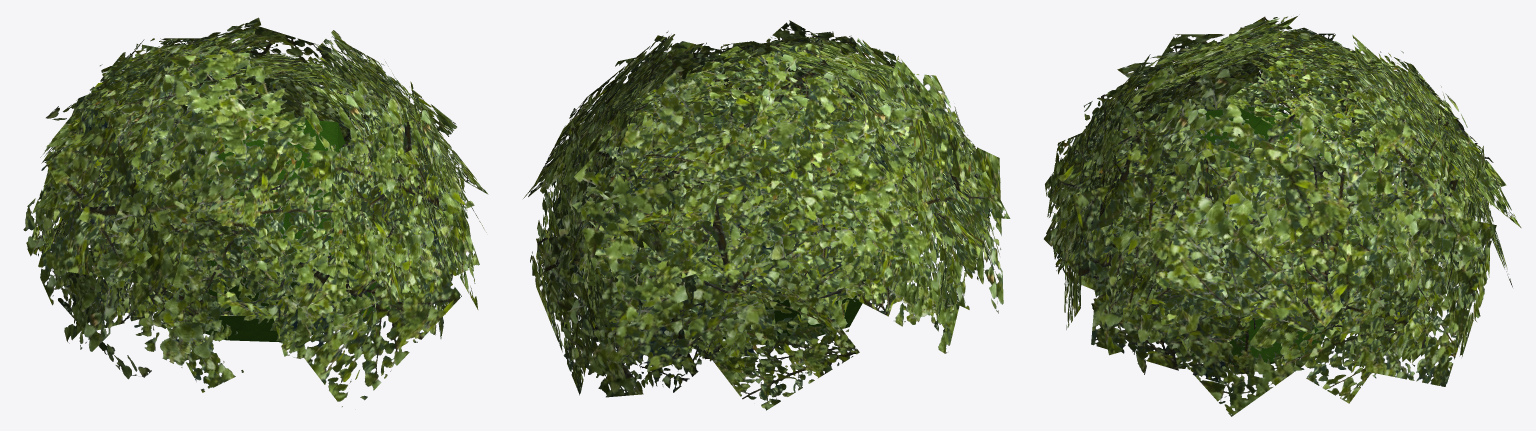
File: bush_leafy.glb
The picture shows the model from 3 angles, left to right: view 1: azimuth 30°, elevation 25°; view 2: azimuth 150°, elevation 25°; view 3: azimuth 270°, elevation 25°; orthographic projection. The views are drawn at different scales.
Visible parts, largest first — view 1: _MeshInstance3D_10; view 2: _MeshInstance3D_10; view 3: _MeshInstance3D_10.
Part boxes in pixels (x1,y1,x2,y2): _MeshInstance3D_10: [23, 17, 488, 406]; _MeshInstance3D_10: [523, 20, 1010, 410]; _MeshInstance3D_10: [1044, 14, 1521, 416].
Size of the model in its own units: 1.13 by 0.7841 by 1.14.
2 materials, 2 textured.
